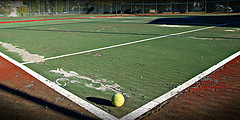tennis ball: (110, 91, 126, 108)
